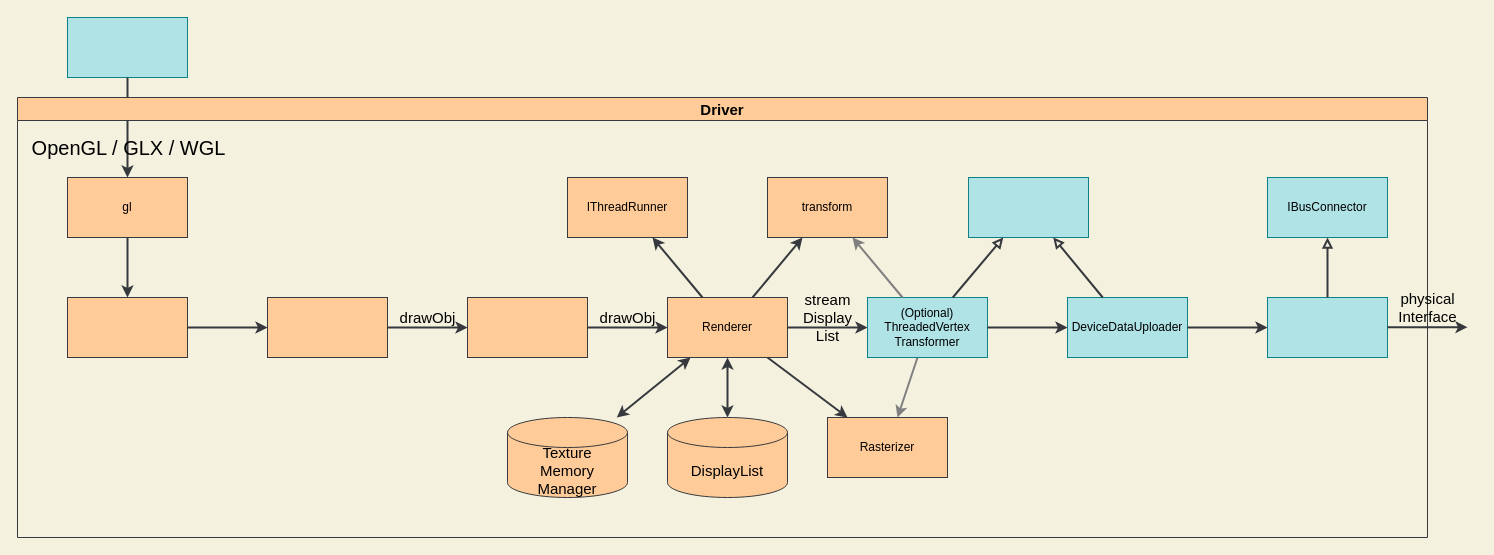
Some shapes in this 1494 by 555 pixel diagram are drawn without their labels. Here are the shapes that lost their labels. From the top down, the box of each, then its label:
(66, 16, 188, 78): Application
(968, 176, 1088, 238): IDevice
(66, 296, 188, 358): RIXGL
(266, 296, 388, 358): VertexPipeline
(466, 296, 588, 358): PixelPipeline
(1266, 296, 1388, 358): DmaProxy/FT60X/SPI
